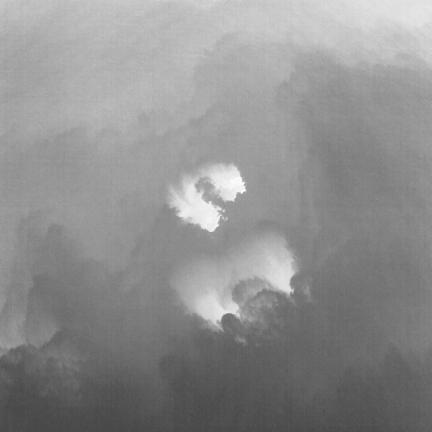flukeprints: (169, 180, 222, 231), (207, 165, 245, 201)
